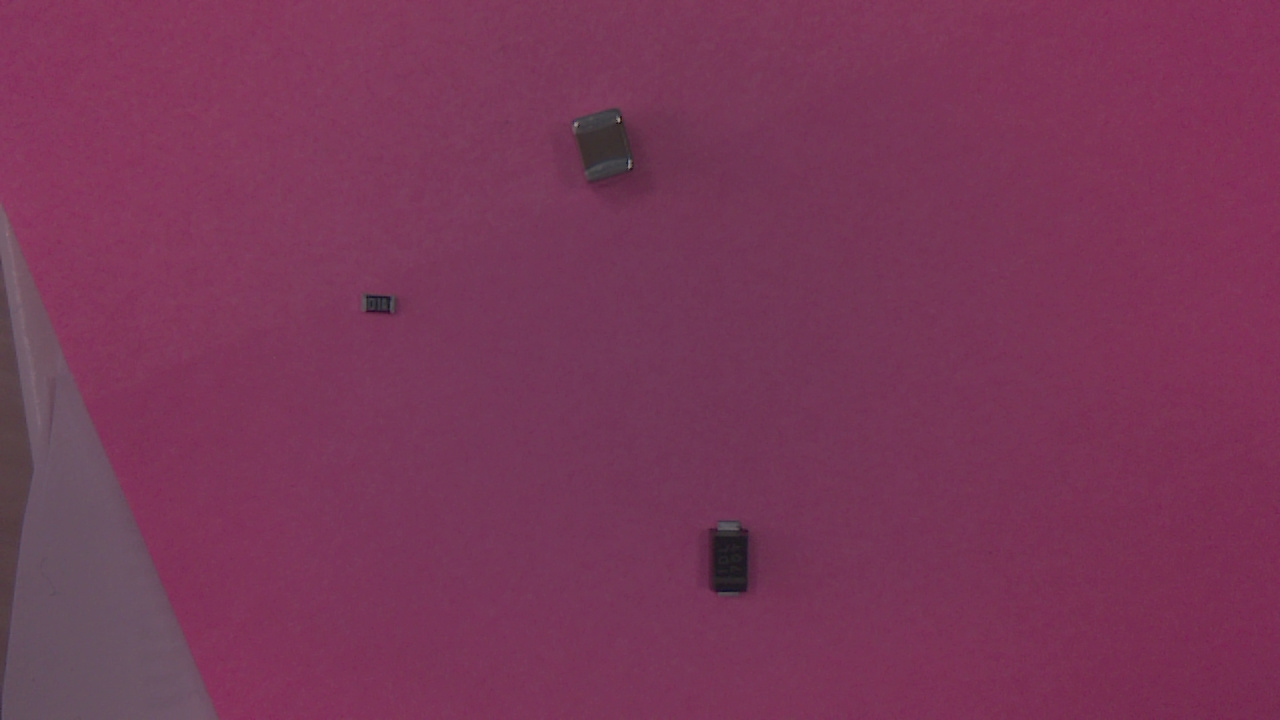Condensator: (571, 113, 644, 191)
Diode: (707, 523, 758, 608)
Resistor: (361, 290, 405, 330)
